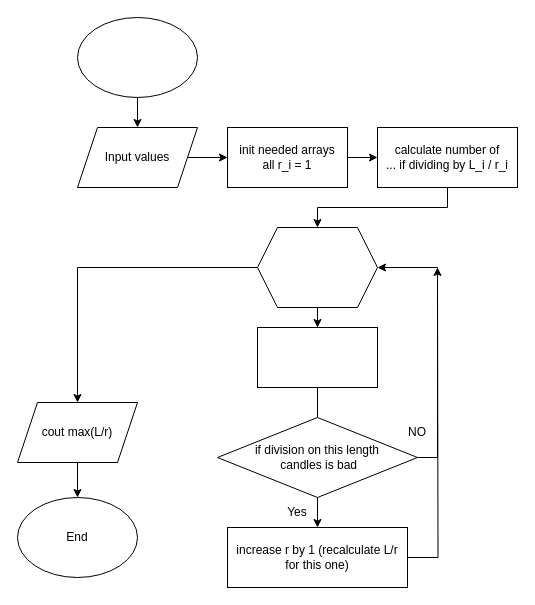
Image size: 535x605. Some labels were removed from this diagram. Here are the shapes that lost their labels. From the top down, the centre of each, then its label:
At (x=137, y=57): "Input".
At (x=317, y=267): "while number of candles by max( L_i/ r_i ) is not >= n".
At (x=317, y=357): "find max among L/r".
